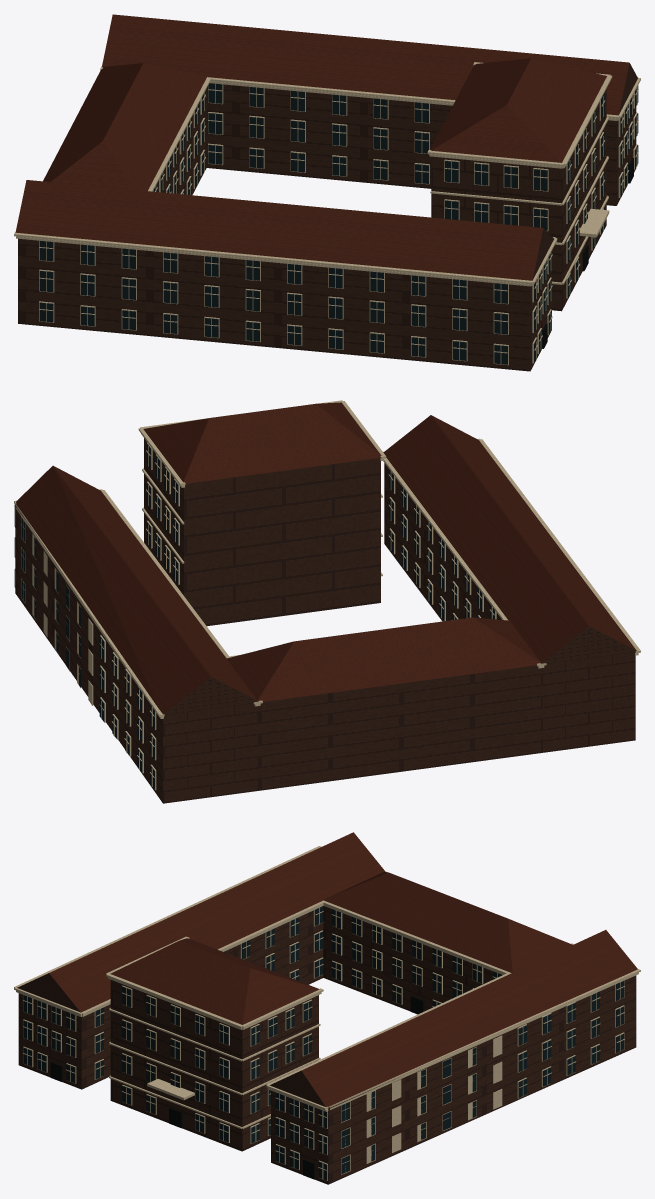
3 views of the same model, one above another, from view 1: azimuth 30°, elevation 25°; view 2: azimuth 150°, elevation 25°; view 3: azimuth 270°, elevation 25° (orthographic). The views are drawn at different scales.
Parts seen in each view (by area): view 1: oostindisch-huis-1, oostindisch-huis-0, oostindisch-huis-2, oostindisch-huis-3; view 2: oostindisch-huis-0, oostindisch-huis-1, oostindisch-huis-2, oostindisch-huis-3; view 3: oostindisch-huis-0, oostindisch-huis-1, oostindisch-huis-2, oostindisch-huis-3, oostindisch-huis-4.
Part boxes in pixels (x1,y1,x2,y2): oostindisch-huis-1: [15, 14, 629, 280]; oostindisch-huis-0: [18, 63, 637, 371]; oostindisch-huis-2: [14, 62, 640, 365]; oostindisch-huis-3: [39, 83, 638, 364]; oostindisch-huis-0: [15, 438, 636, 803]; oostindisch-huis-1: [16, 402, 636, 713]; oostindisch-huis-2: [14, 400, 640, 790]; oostindisch-huis-3: [14, 443, 494, 789]; oostindisch-huis-0: [17, 906, 636, 1184]; oostindisch-huis-1: [49, 832, 637, 1106]; oostindisch-huis-2: [14, 846, 640, 1180]; oostindisch-huis-3: [23, 906, 624, 1180]; oostindisch-huis-4: [50, 995, 424, 1179].
Size of the model in its own units: 80.4 by 22 by 81.17.
Materials: 5 (5 with a texture image).
